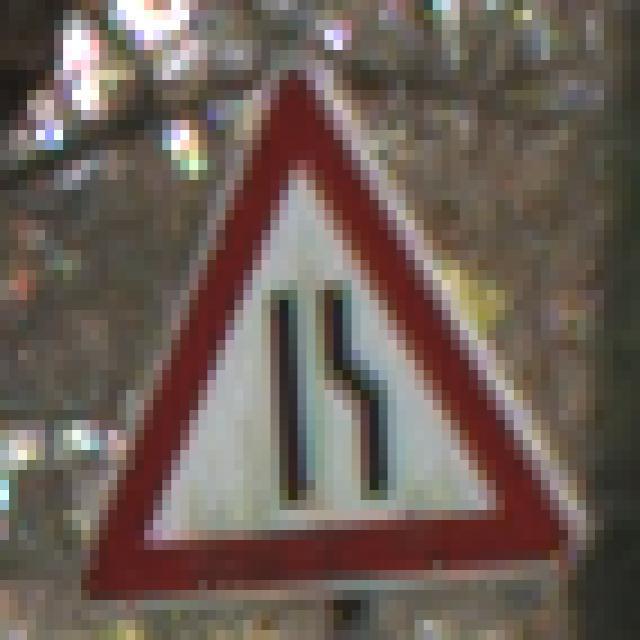narrow road ahead: (77, 62, 571, 599)
